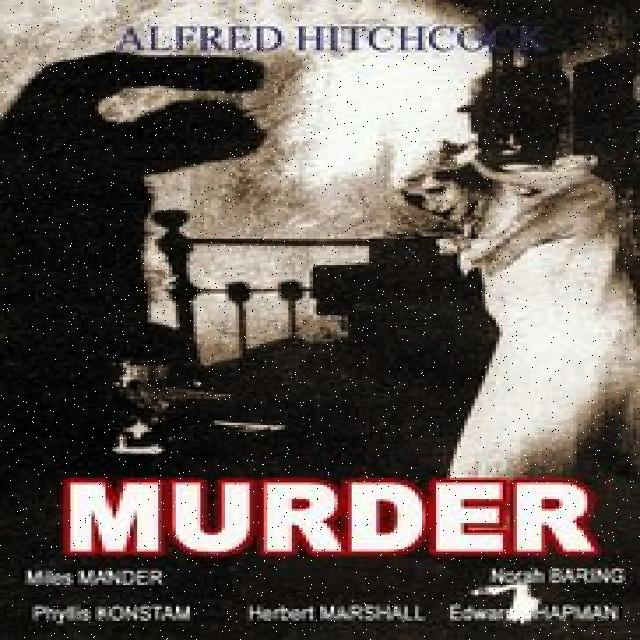movie-judul: (39, 473, 632, 565)
picture: (0, 50, 640, 459)
